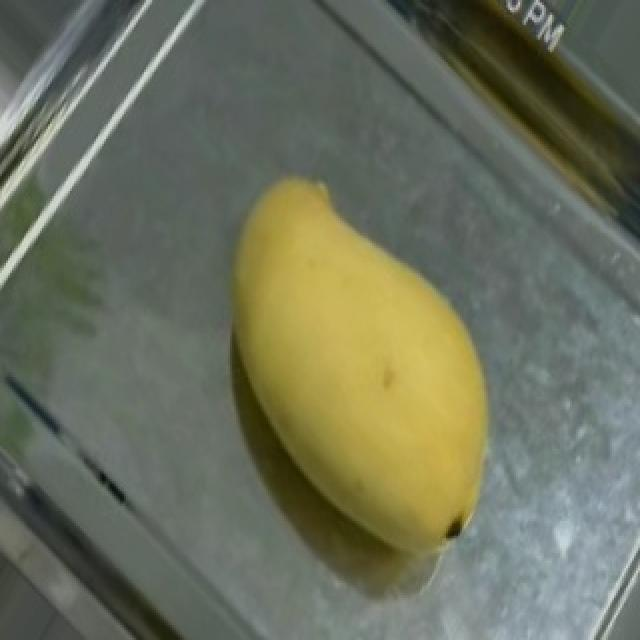fruit: (170, 139, 558, 568)
